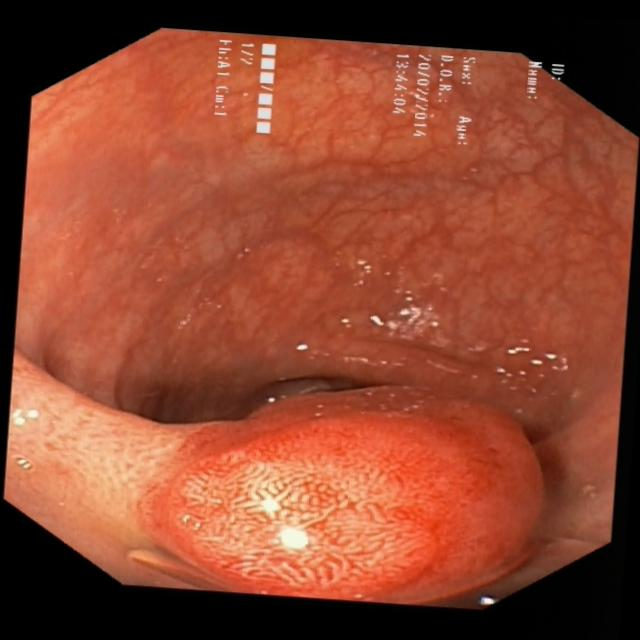Polyps: (119, 375, 551, 612)
